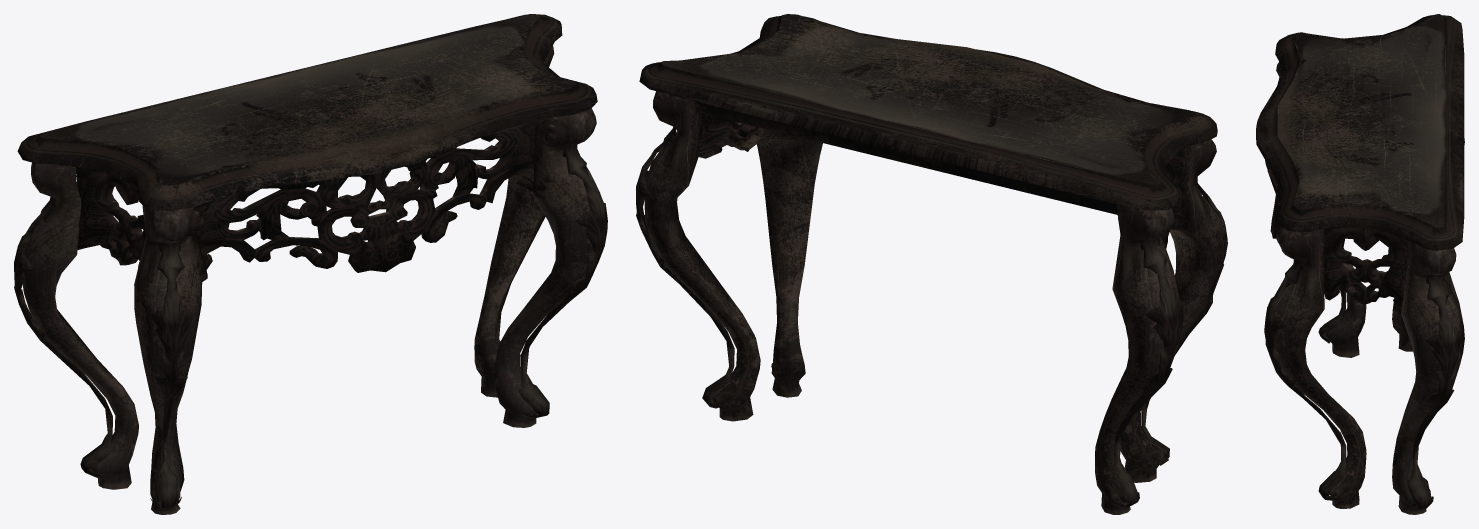
The model's file is ClassicConsole_01.glb.
The picture shows the model from 3 angles, left to right: view 1: azimuth 30°, elevation 25°; view 2: azimuth 150°, elevation 25°; view 3: azimuth 270°, elevation 25°; orthographic projection. The views are drawn at different scales.
Visible parts, largest first — view 1: ClassicConsole_01; view 2: ClassicConsole_01; view 3: ClassicConsole_01.
Boxes of the visible parts, x1=… form: ClassicConsole_01: x1=14, y1=14, x2=607, y2=514; ClassicConsole_01: x1=636, y1=14, x2=1227, y2=514; ClassicConsole_01: x1=1256, y1=14, x2=1464, y2=514.
Size of the model in its own units: 1.54 by 0.9491 by 0.5859.
1 material, 1 textured.
